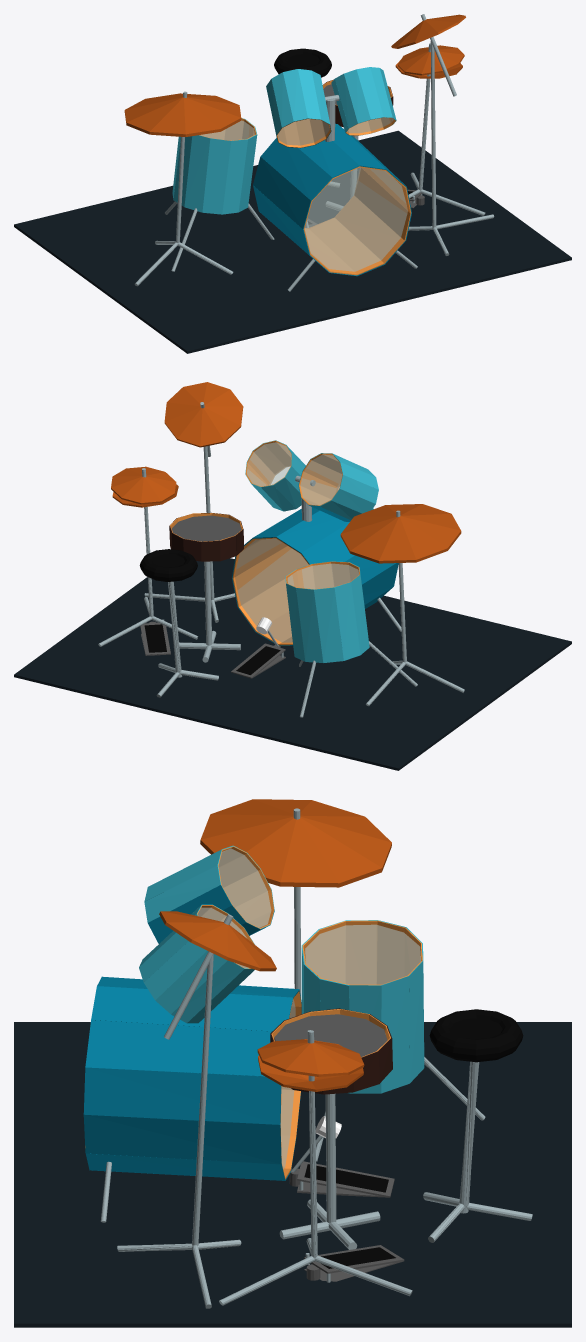
3 renders of one model, top to bottom at view 1: azimuth 30°, elevation 25°; view 2: azimuth 150°, elevation 25°; view 3: azimuth 270°, elevation 25°, orthographic. The views are drawn at different scales.
Visible parts, largest first — view 1: group516436384, group887072338, group654266889, group370074410, group1478113385, group410413010, group706437995, group1557875796, group1375386455, group1694807479, group73174683, group28713638 (+15 smaller); view 2: group516436384, group370074410, group887072338, group1320678639, group654266889, group1478113385, group1532374837, group1694807479, group1404238537, group664528598, group722085133, group878792710 (+17 smaller); view 3: group516436384, group370074410, group307779137, group350255547, group1038593656, group654266889, group1532374837, group1478113385, group1564768936, group1533848445, group664528598, group1320678639 (+22 smaller).
Part boxes in pixels (x1=…): group516436384: x1=14, y1=130, x2=571, y2=353; group887072338: x1=304, y1=167, x2=407, y2=271; group654266889: x1=266, y1=69, x2=331, y2=148; group370074410: x1=124, y1=93, x2=241, y2=136; group1478113385: x1=331, y1=67, x2=396, y2=135; group410413010: x1=334, y1=196, x2=404, y2=263; group706437995: x1=260, y1=138, x2=332, y2=200; group1557875796: x1=253, y1=157, x2=311, y2=229; group1375386455: x1=309, y1=218, x2=384, y2=274; group1694807479: x1=354, y1=167, x2=410, y2=240; group73174683: x1=202, y1=138, x2=231, y2=214; group28713638: x1=184, y1=135, x2=210, y2=212; group516436384: x1=14, y1=558, x2=571, y2=770; group370074410: x1=340, y1=504, x2=461, y2=563; group887072338: x1=235, y1=538, x2=308, y2=642; group1320678639: x1=164, y1=382, x2=243, y2=456; group654266889: x1=298, y1=453, x2=378, y2=521; group1478113385: x1=245, y1=440, x2=305, y2=511; group1532374837: x1=139, y1=549, x2=218, y2=697; group1694807479: x1=232, y1=546, x2=307, y2=606; group1404238537: x1=111, y1=466, x2=176, y2=504; group664528598: x1=98, y1=468, x2=198, y2=655; group722085133: x1=314, y1=587, x2=343, y2=662; group878792710: x1=276, y1=510, x2=349, y2=553; group516436384: x1=14, y1=1022, x2=571, y2=1327; group370074410: x1=200, y1=799, x2=391, y2=887; group307779137: x1=83, y1=1067, x2=281, y2=1124; group350255547: x1=85, y1=1020, x2=271, y2=1076; group1038593656: x1=83, y1=1114, x2=281, y2=1164; group654266889: x1=144, y1=845, x2=274, y2=943; group1532374837: x1=423, y1=1009, x2=532, y2=1242; group1478113385: x1=139, y1=904, x2=254, y2=1023; group1564768936: x1=305, y1=924, x2=420, y2=984; group1533848445: x1=91, y1=986, x2=293, y2=1031; group664528598: x1=219, y1=1030, x2=412, y2=1305; group1320678639: x1=159, y1=911, x2=276, y2=1039.
Size of the model in its own units: 1.6 by 0.872 by 1.25.
